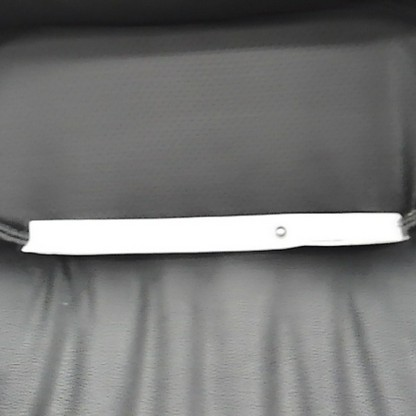ironball: (271, 222, 287, 240)
